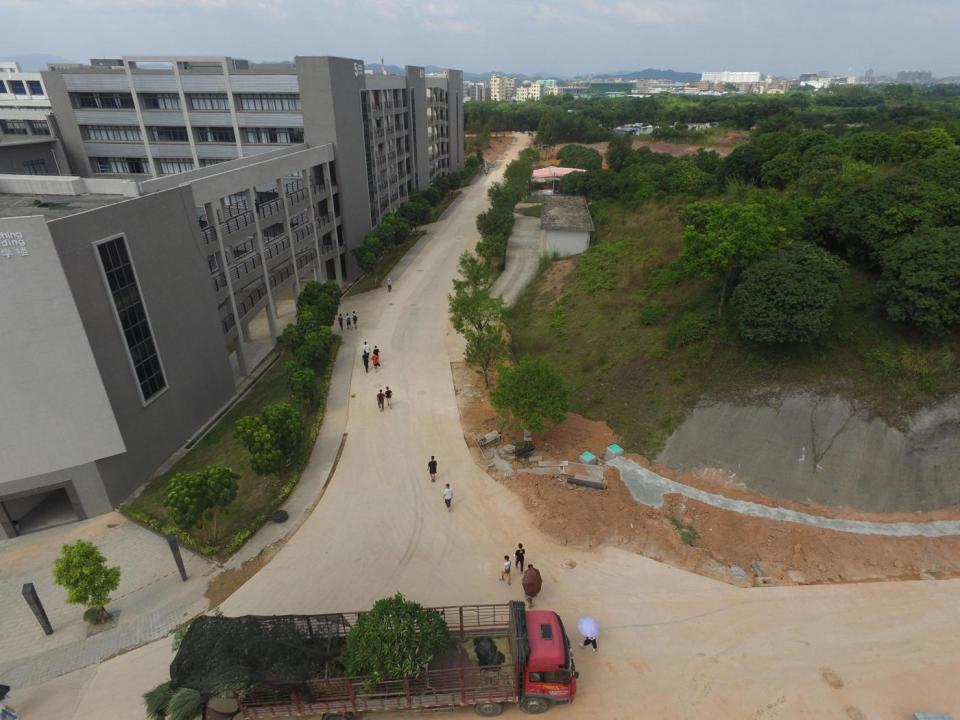truck: (169, 599, 579, 720)
